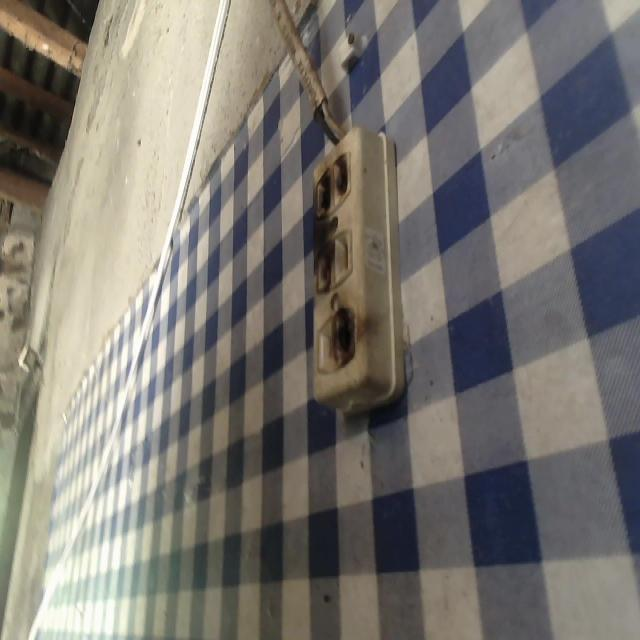-: (295, 150, 361, 214), (329, 300, 366, 372), (305, 237, 337, 292)
